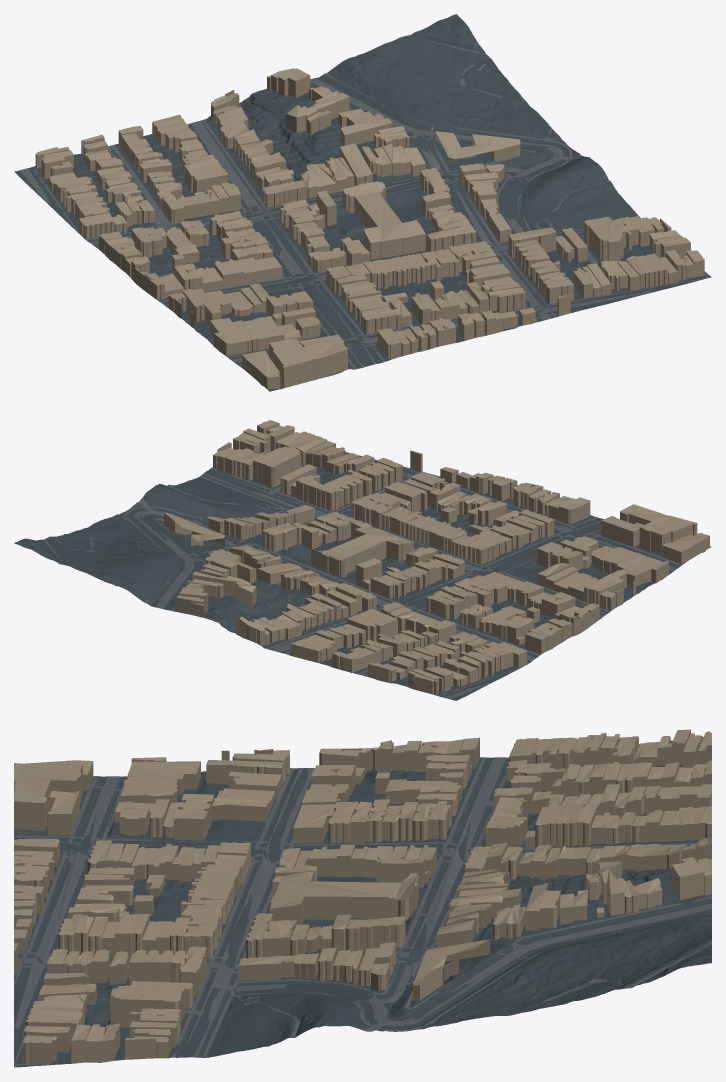
File: epsg26910-1429-10886.lod0.glb
The picture shows the model from 3 angles, top to bottom: view 1: azimuth 30°, elevation 25°; view 2: azimuth 150°, elevation 25°; view 3: azimuth 270°, elevation 25°; orthographic projection. The views are drawn at different scales.
Parts seen in each view (by area): view 1: epsg26910-1429-10886-lod0; view 2: epsg26910-1429-10886-lod0; view 3: epsg26910-1429-10886-lod0.
Boxes of the visible parts, x1,y1,x2,y2 form: epsg26910-1429-10886-lod0: (14, 14, 711, 391); epsg26910-1429-10886-lod0: (14, 420, 711, 700); epsg26910-1429-10886-lod0: (14, 729, 711, 1067).
Size of the model in its own units: 384 by 68.8 by 384.
